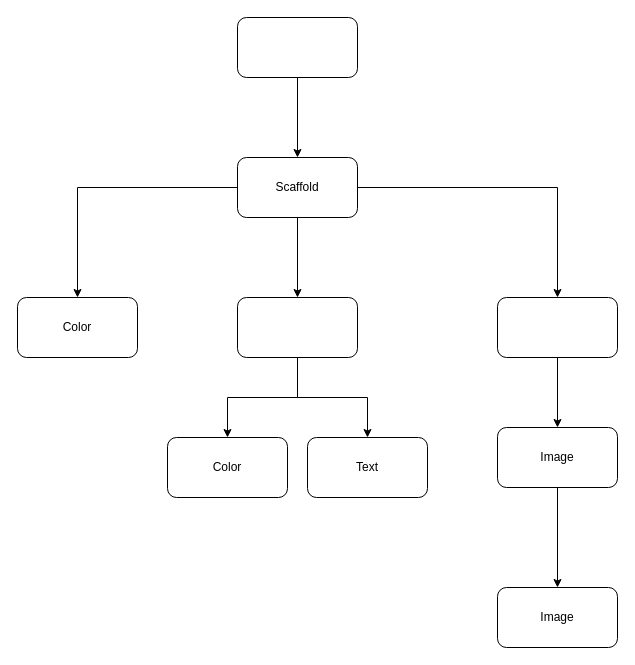
Image size: 635x665. Some labels were removed from this diagram. Here are the shapes that lost their labels. From the top down, the box of each, then its label:
(236, 16, 358, 78): MaterialApp
(236, 296, 358, 358): AppBar
(496, 296, 618, 358): Center
